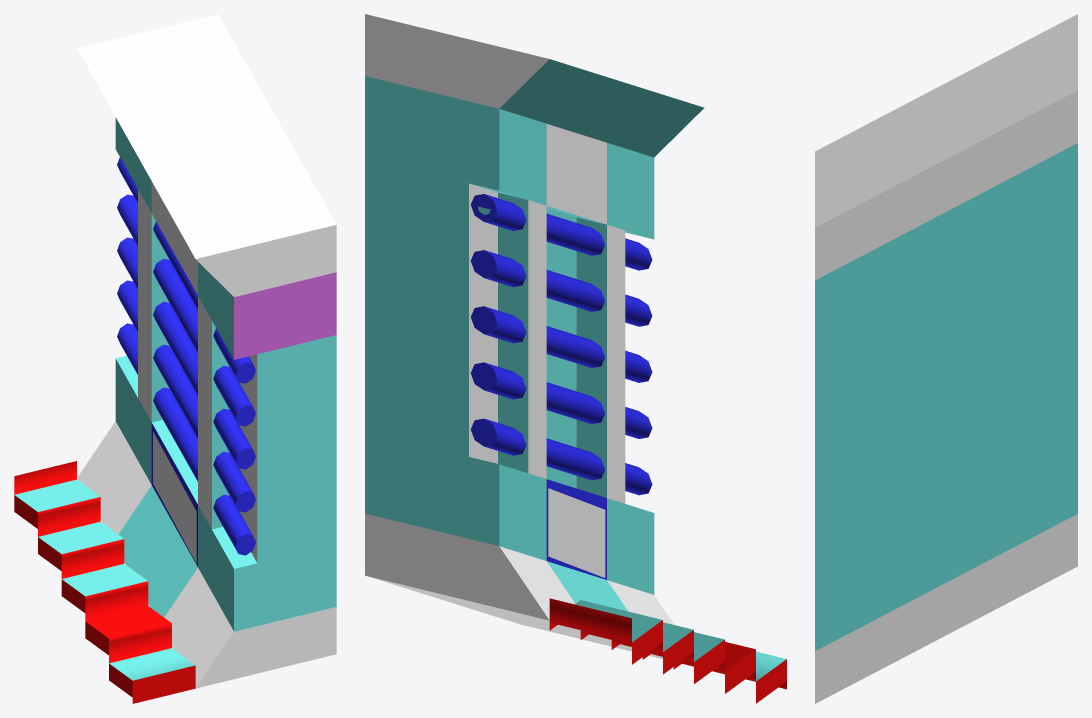
The model's file is Wall-BaseAngled.fbx.
3 views of the same model, side by side, from view 1: azimuth 30°, elevation 25°; view 2: azimuth 150°, elevation 25°; view 3: azimuth 270°, elevation 25° (orthographic). The views are drawn at different scales.
Visible parts, largest first — view 1: BaseAngled; view 2: BaseAngled; view 3: BaseAngled.
Boxes of the visible parts, x1,y1,x2,y2 form: BaseAngled: (14, 14, 336, 703); BaseAngled: (365, 14, 786, 703); BaseAngled: (815, 14, 1077, 703).
Bounding box in the file's own units: 78.28 × 203 × 78.74.
